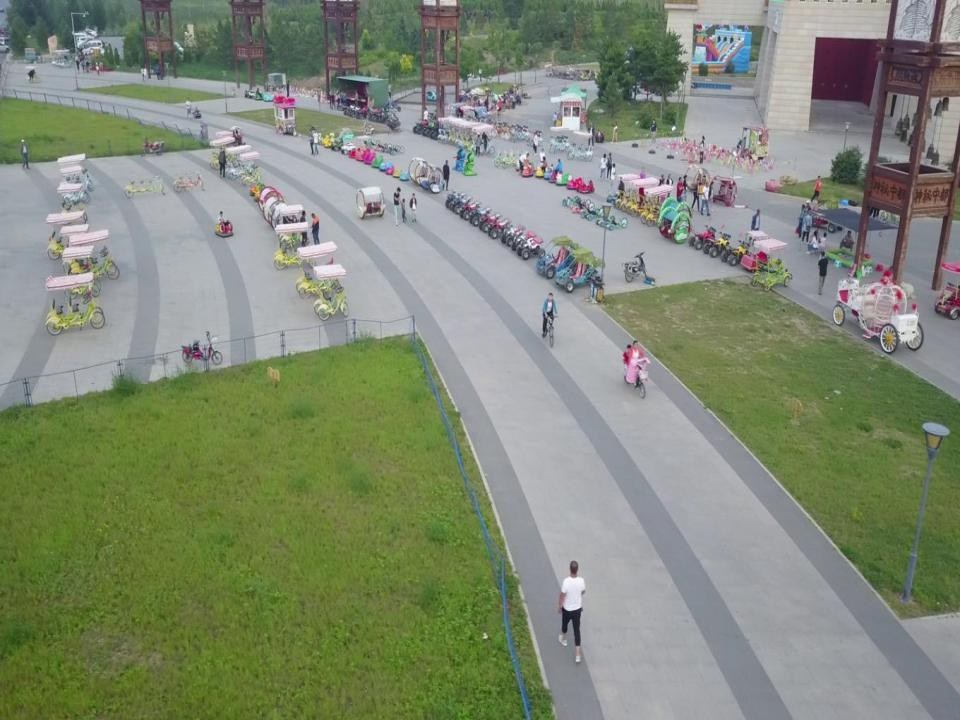bus: (438, 116, 458, 144)
car: (296, 239, 344, 298), (690, 177, 701, 212), (0, 42, 10, 53)
van: (0, 36, 12, 46)
